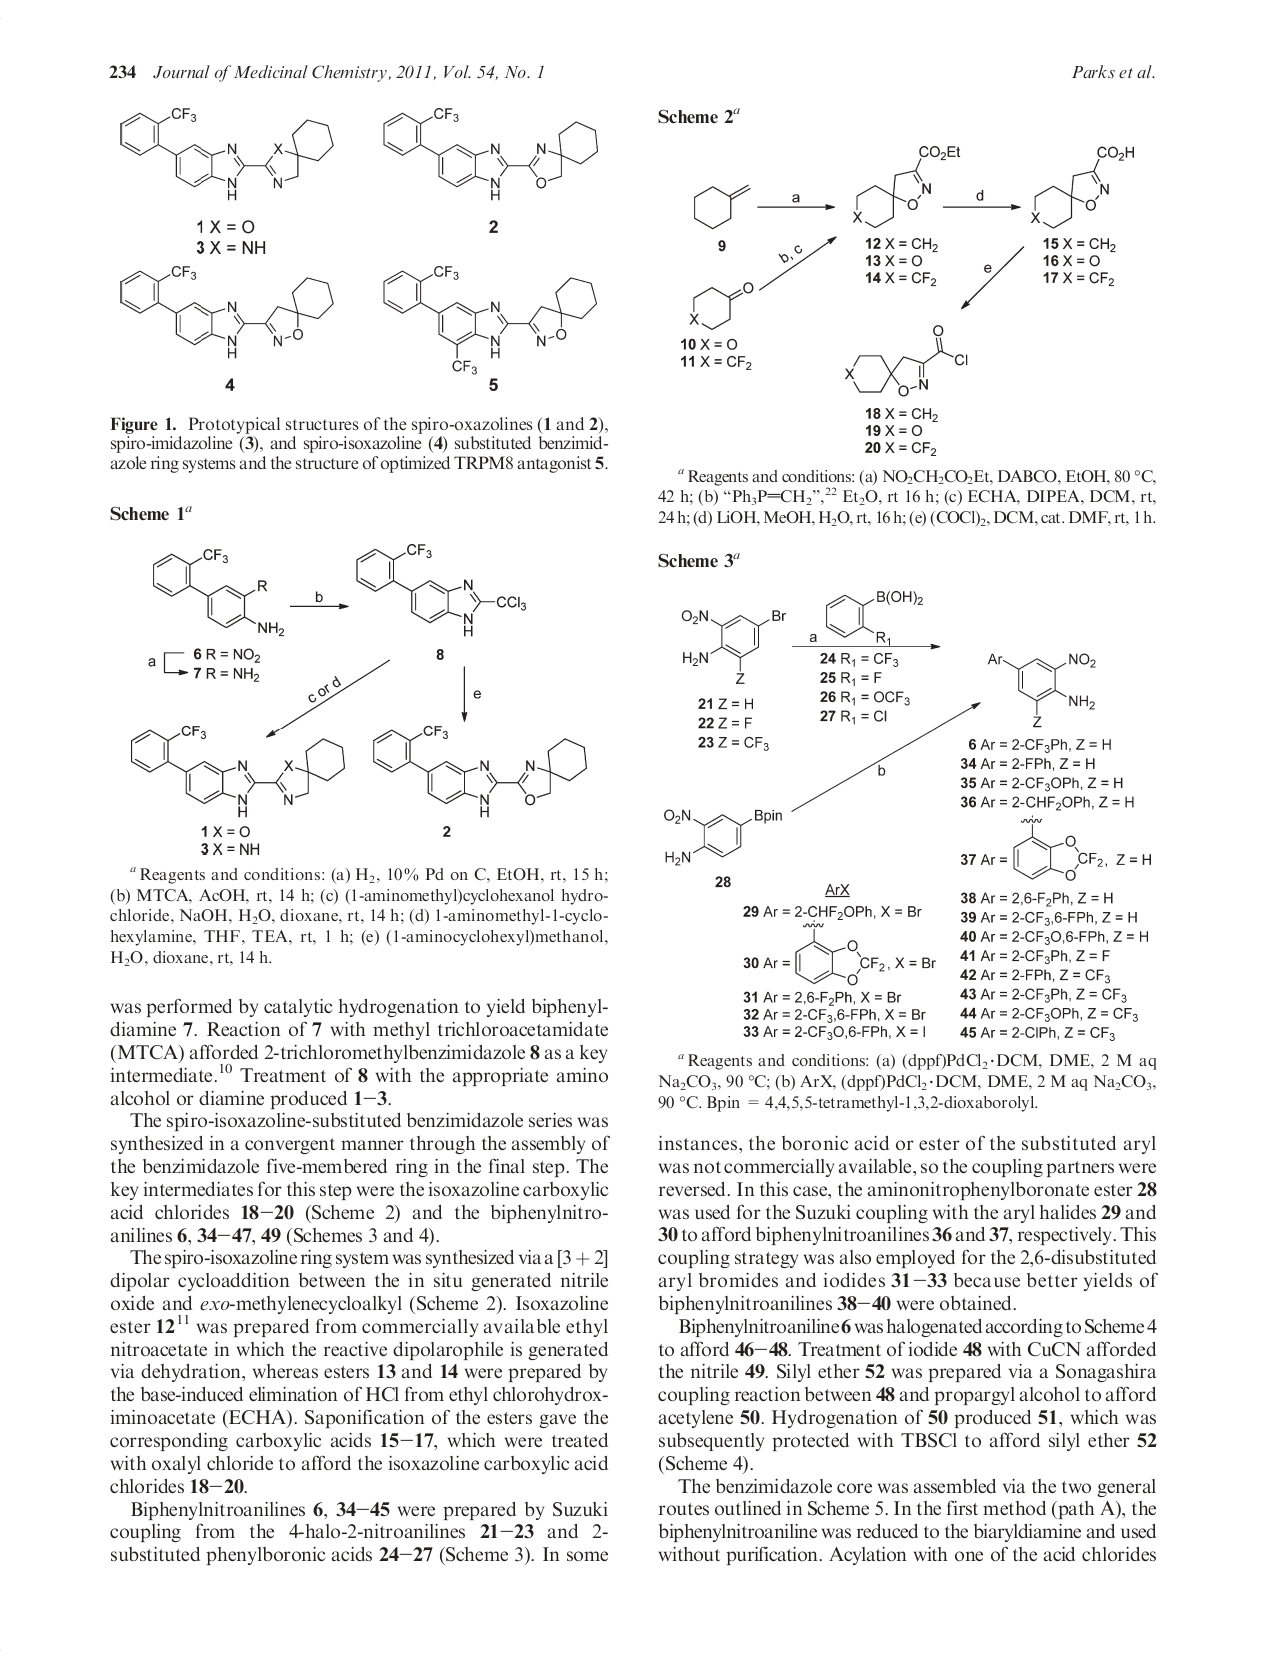exist_molecular: (378, 265, 598, 376), (117, 102, 336, 203), (379, 105, 601, 203), (126, 722, 348, 819), (368, 723, 588, 821), (116, 263, 335, 358), (352, 540, 529, 638), (148, 544, 289, 638), (1027, 141, 1138, 231), (847, 144, 961, 230), (844, 323, 969, 400), (984, 649, 1100, 731), (678, 602, 791, 686), (657, 803, 786, 868), (1009, 813, 1105, 884), (791, 918, 887, 988), (821, 588, 926, 648), (685, 281, 755, 332), (689, 178, 755, 231)
